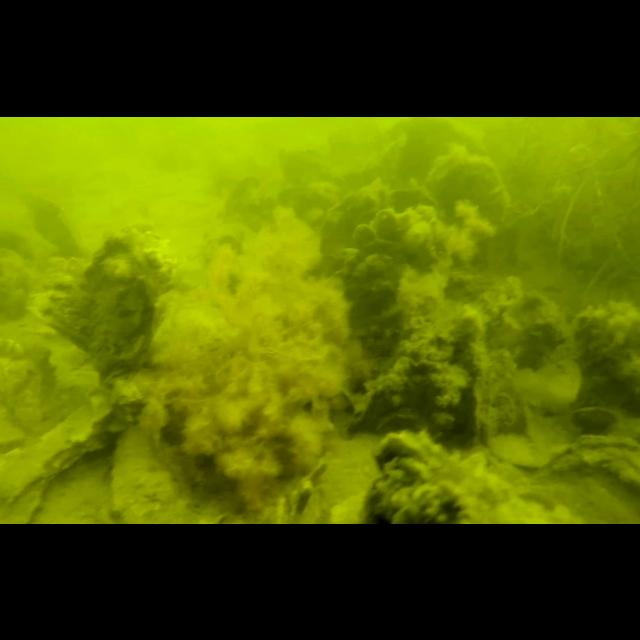Oyster-Closed: (88, 219, 180, 381), (0, 390, 122, 498), (425, 145, 511, 261), (111, 418, 203, 524), (320, 183, 442, 259), (399, 482, 581, 524), (0, 335, 72, 433), (35, 252, 95, 351), (352, 205, 442, 268), (18, 190, 86, 254)
Oyster-Open: (362, 424, 514, 524), (343, 237, 407, 356), (0, 220, 42, 320), (568, 405, 626, 447)
